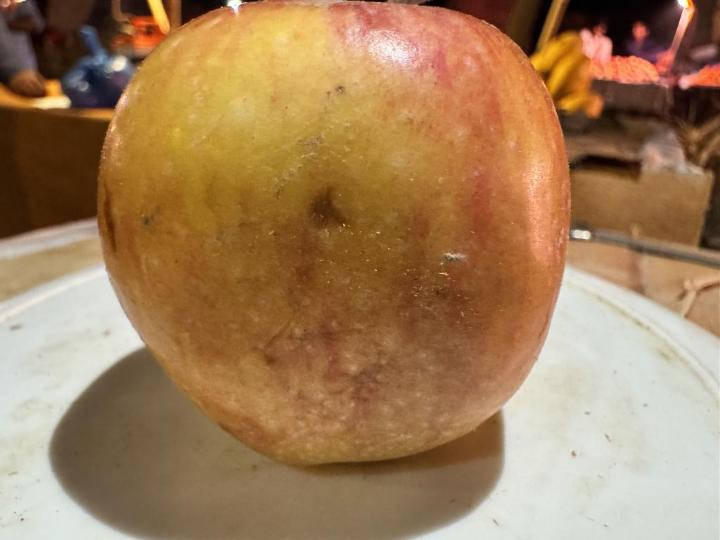apple: (98, 0, 569, 464)
bruise_discoloration: (300, 184, 359, 236), (101, 184, 118, 257)
